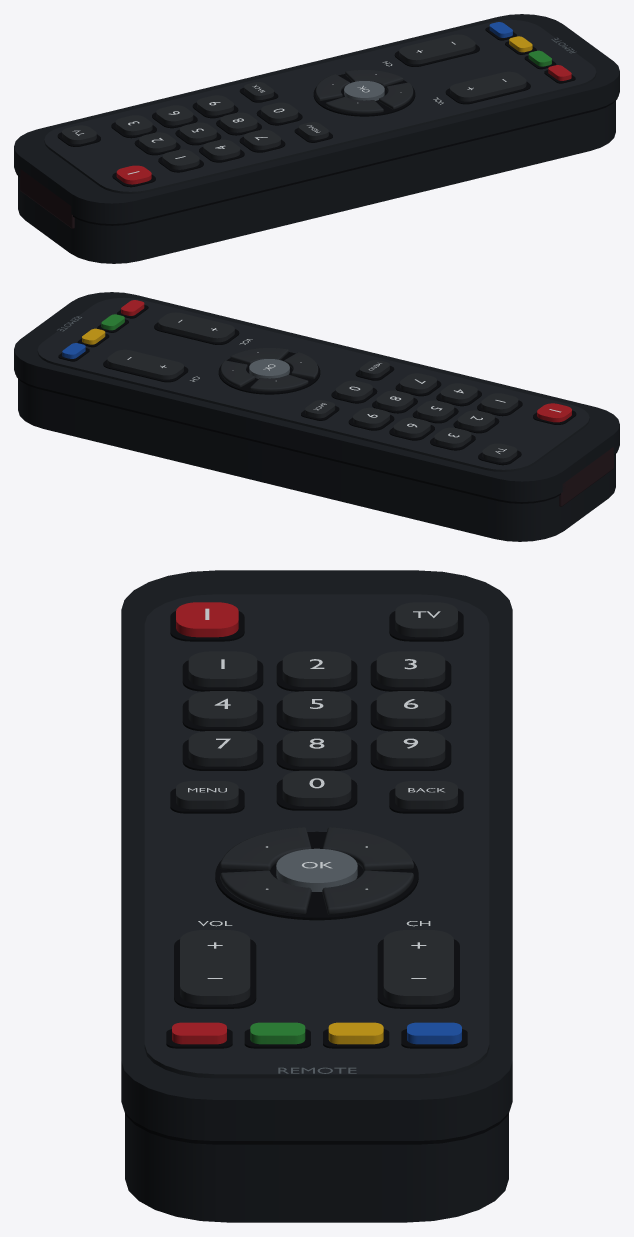
Rendered from controle_remoto.glb.
3 renders of one model, top to bottom at view 1: azimuth 30°, elevation 25°; view 2: azimuth 150°, elevation 25°; view 3: azimuth 270°, elevation 25°, orthographic. The views are drawn at different scales.
Visible parts, largest first — view 1: Face de comandos, Carcaca inferior ergonomica, Carcaca superior, Balanco CH, Balanco VOL, Junta entre as metades, Janela do emissor IR, Setor do direcional.001, Botao OK, Fundo do direcional, Setor do direcional.003, Setor do direcional.002 (+15 smaller); view 2: Face de comandos, Carcaca inferior ergonomica, Carcaca superior, Balanco CH, Balanco VOL, Junta entre as metades, Janela do emissor IR, Setor do direcional, Botao OK, Fundo do direcional, Setor do direcional.002, Setor do direcional.003 (+15 smaller); view 3: Face de comandos, Carcaca superior, Carcaca inferior ergonomica, Balanco CH, Balanco VOL, Botao OK, Setor do direcional.002, Setor do direcional.003, Setor do direcional, Setor do direcional.001, Fundo do direcional, Tecla 1 (+20 smaller).
Part boxes in pixels (x1=…): Face de comandos: x1=44, y1=19, x2=596, y2=193; Carcaca inferior ergonomica: x1=18, y1=101, x2=615, y2=263; Carcaca superior: x1=14, y1=14, x2=619, y2=223; Balanco CH: x1=399, y1=34, x2=475, y2=64; Balanco VOL: x1=450, y1=71, x2=526, y2=101; Junta entre as metades: x1=16, y1=97, x2=617, y2=225; Janela do emissor IR: x1=20, y1=169, x2=74, y2=228; Setor do direcional.001: x1=325, y1=96, x2=383, y2=113; Botao OK: x1=344, y1=81, x2=384, y2=100; Fundo do direcional: x1=313, y1=74, x2=415, y2=116; Setor do direcional.003: x1=345, y1=70, x2=403, y2=86; Setor do direcional.002: x1=379, y1=82, x2=413, y2=109; Face de comandos: x1=37, y1=297, x2=589, y2=471; Carcaca inferior ergonomica: x1=18, y1=379, x2=615, y2=541; Carcaca superior: x1=14, y1=292, x2=619, y2=501; Balanco CH: x1=107, y1=349, x2=183, y2=379; Balanco VOL: x1=158, y1=312, x2=234, y2=342; Junta entre as metades: x1=16, y1=375, x2=617, y2=503; Janela do emissor IR: x1=559, y1=447, x2=613, y2=506; Setor do direcional: x1=250, y1=374, x2=308, y2=391; Botao OK: x1=249, y1=359, x2=289, y2=378; Fundo do direcional: x1=218, y1=352, x2=320, y2=394; Setor do direcional.002: x1=230, y1=348, x2=288, y2=364; Setor do direcional.003: x1=220, y1=360, x2=254, y2=387; Face de comandos: x1=144, y1=594, x2=489, y2=1078; Carcaca superior: x1=121, y1=570, x2=512, y2=1140; Carcaca inferior ergonomica: x1=125, y1=1114, x2=508, y2=1222; Balanco CH: x1=383, y1=930, x2=453, y2=1004; Balanco VOL: x1=180, y1=930, x2=250, y2=1004; Botao OK: x1=276, y1=848, x2=357, y2=891; Setor do direcional.002: x1=220, y1=870, x2=311, y2=914; Setor do direcional.003: x1=322, y1=870, x2=413, y2=914; Setor do direcional: x1=322, y1=827, x2=413, y2=870; Setor do direcional.001: x1=220, y1=827, x2=311, y2=870; Fundo do direcional: x1=215, y1=831, x2=418, y2=920; Tecla 1: x1=188, y1=651, x2=257, y2=687.
Bounding box in the file's own units: 0.16 × 0.0198 × 0.05.
